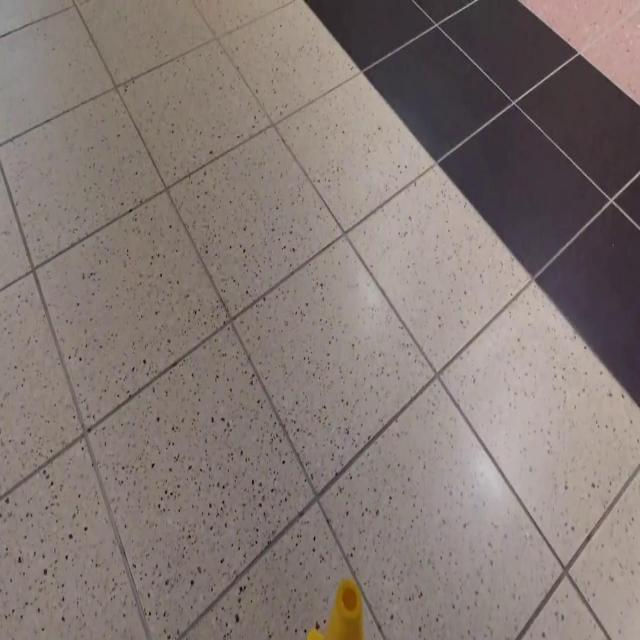frc_cone: (305, 576, 367, 640)
